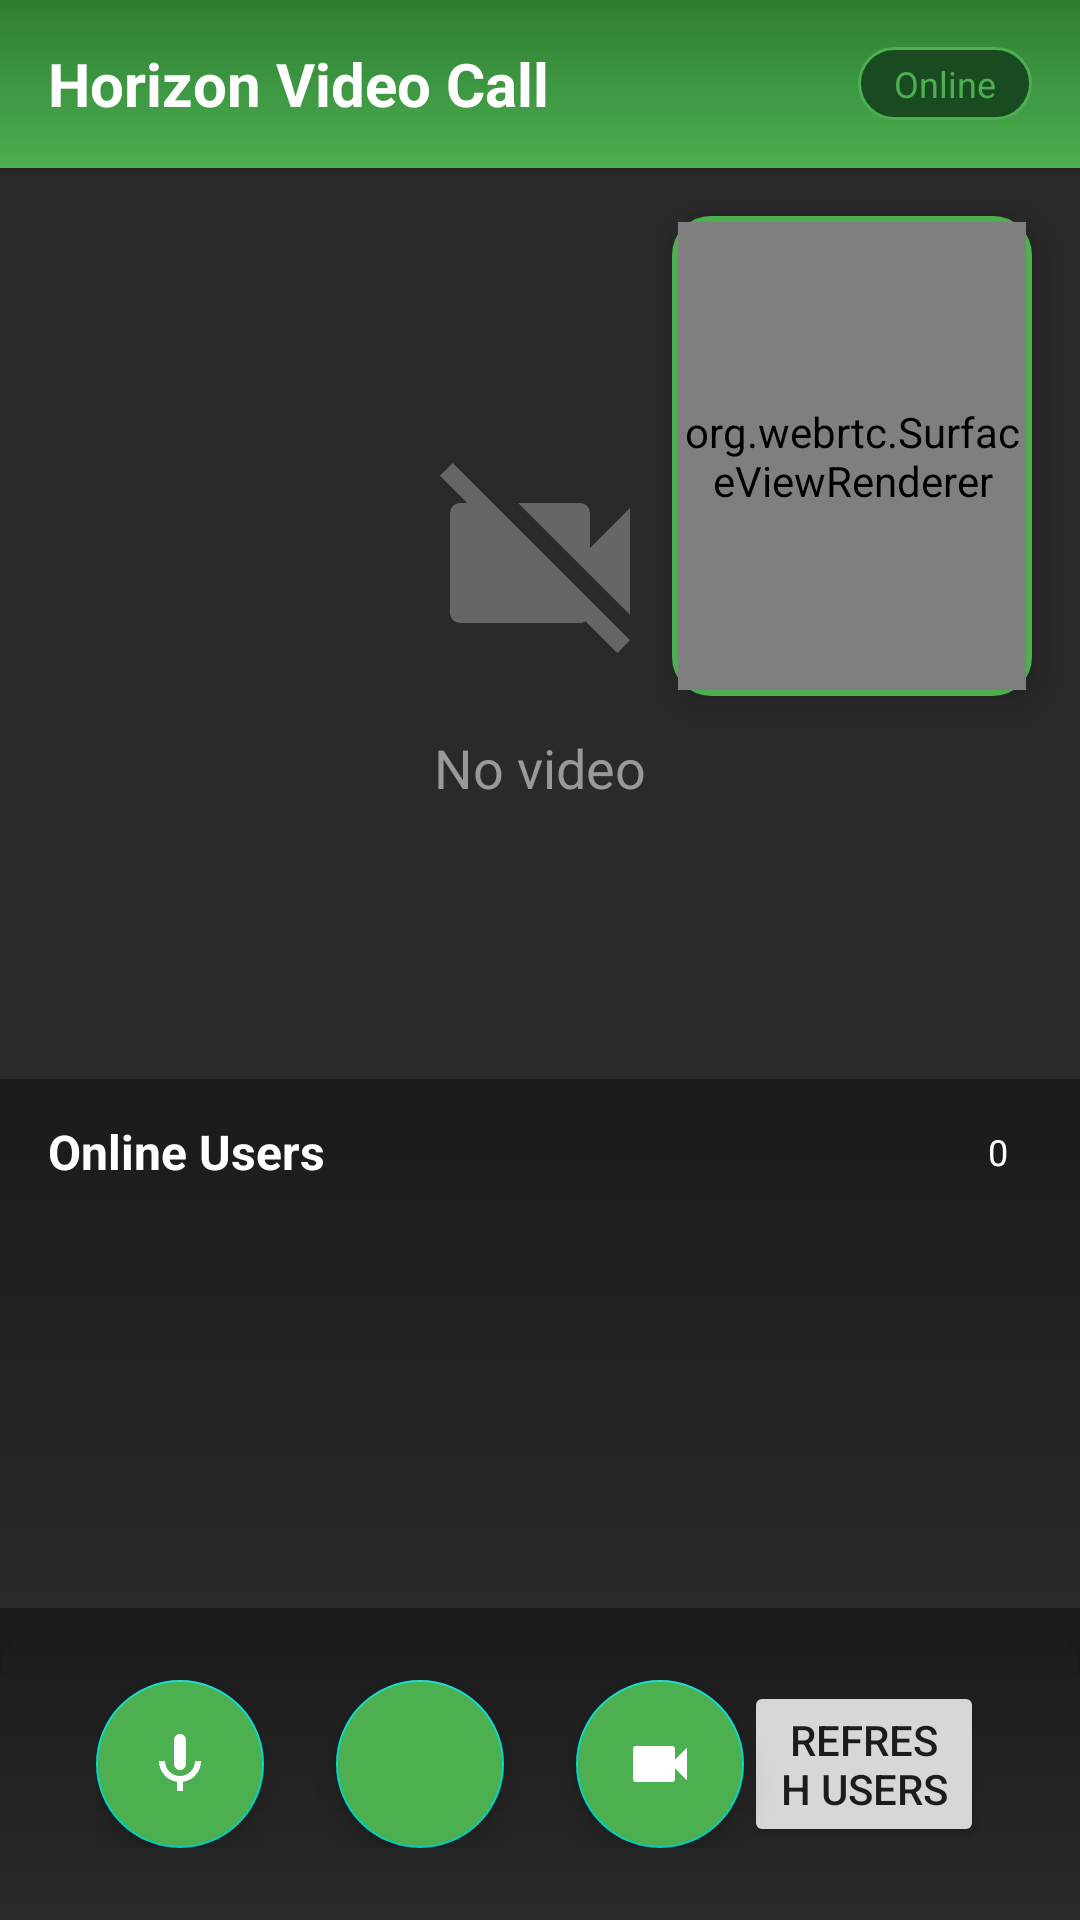

Screen size 1080w x 1920h. Icon name, then its center in pixels as (x=x, y=y):
mic: (x=180, y=1764)
videocam: (x=660, y=1764)
videocam off: (x=535, y=558)
